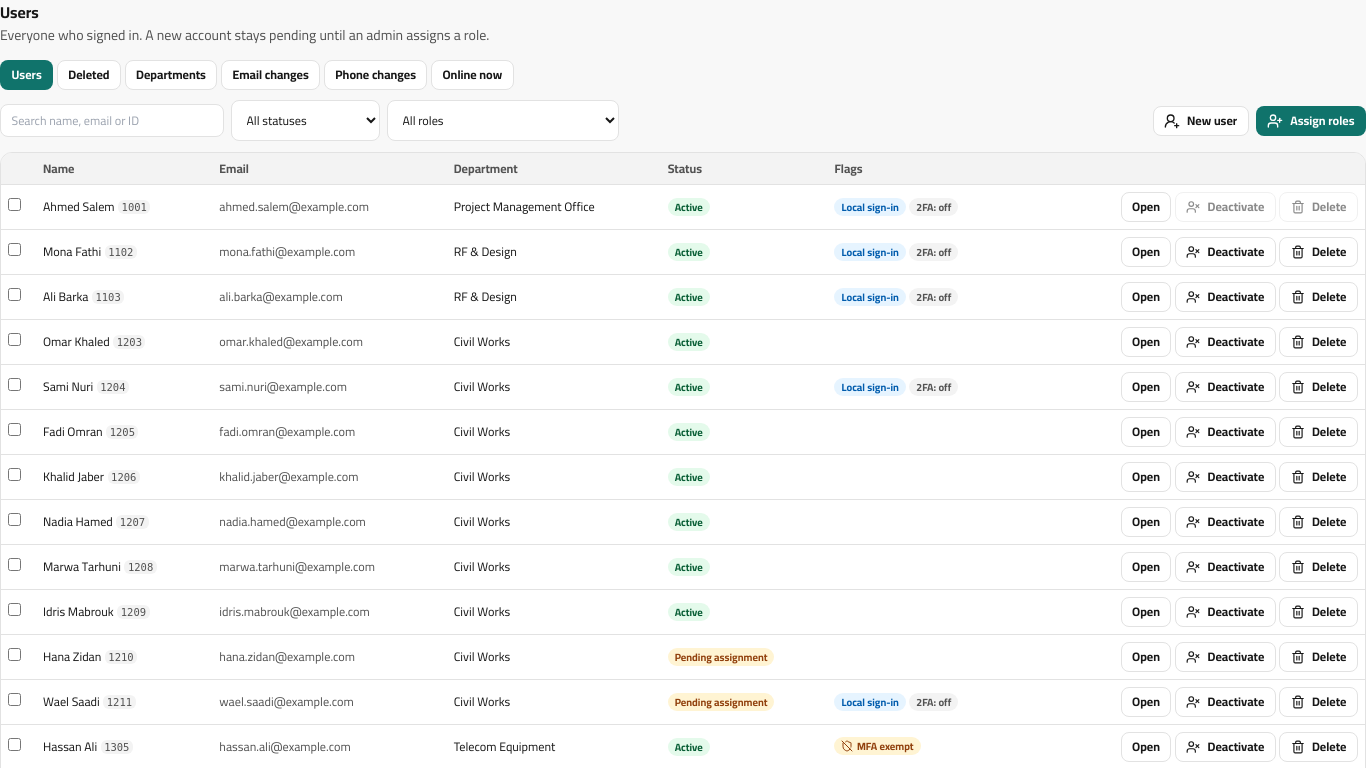
create user › maps 422 weak_password for a typed temporary password
This screenshot has width=1366, height=768.
Step 1. Click the button with test id "users-new" → (1201, 120), box [1153,106,1249,136]
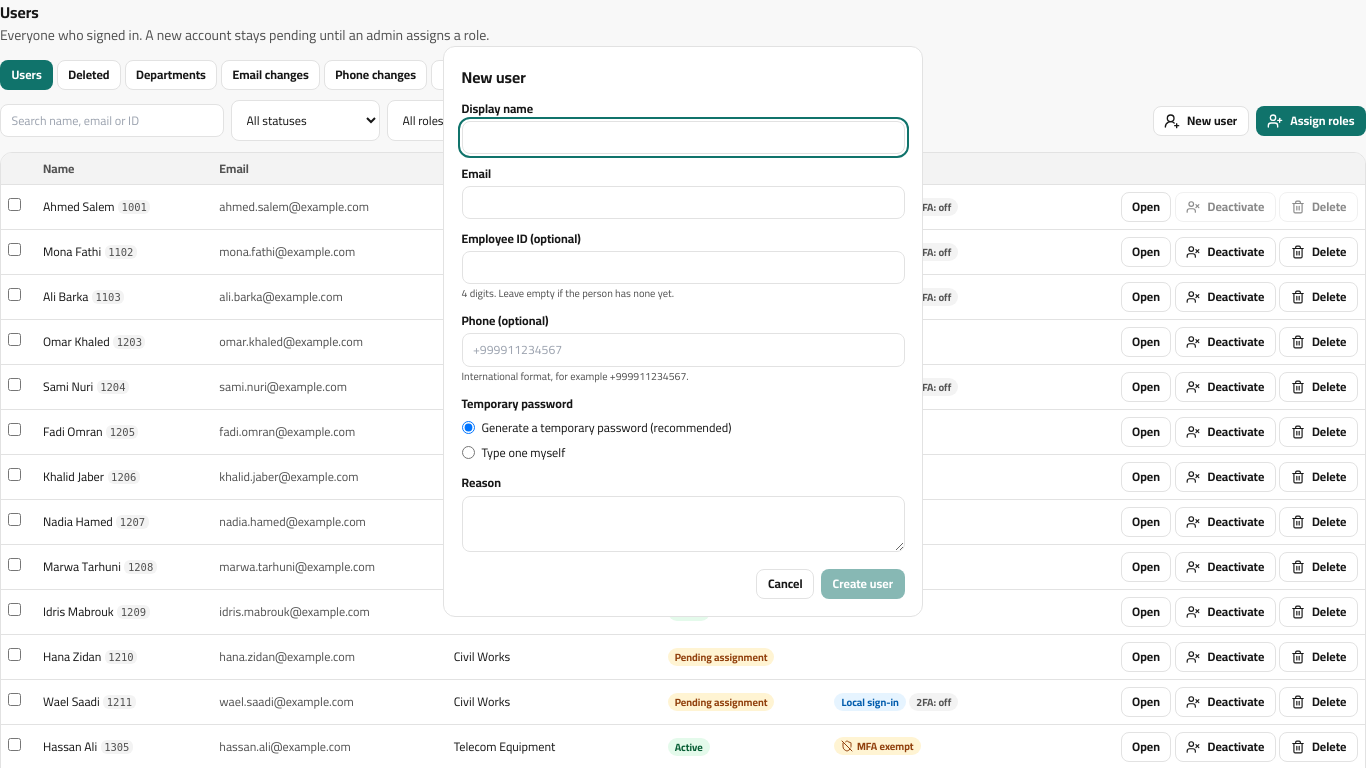
Step 2. Type "Weak Pw" into the field with test id "new-user-name" → (683, 137), box [462,121,904,154]
Step 3. Type "weak.pw@example.com" into the field with test id "new-user-email" → (683, 202), box [462,186,904,219]
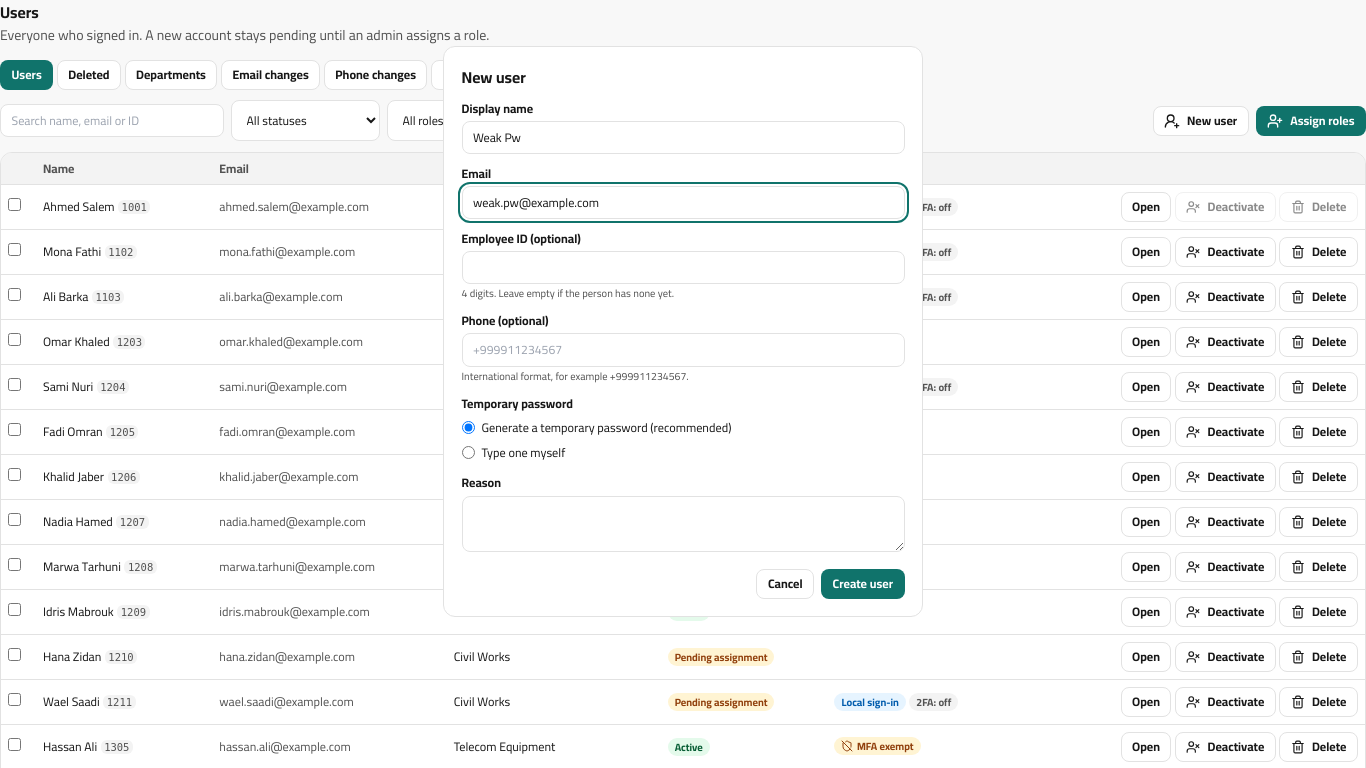
Step 4. Click the radio button with test id "new-user-mode-type" → (468, 452), box [462,446,474,459]
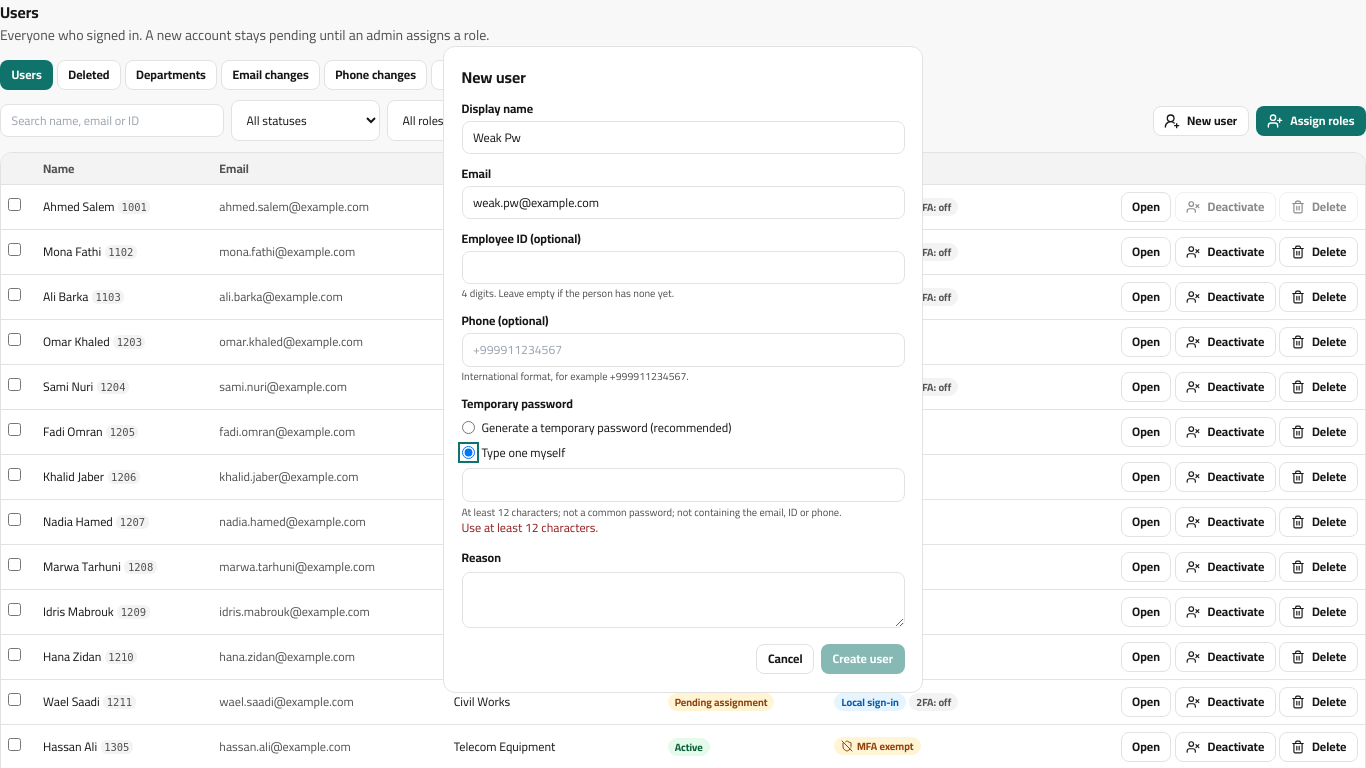
Step 5. Type "weak.pw@example.com" into the field with test id "new-user-password" → (683, 485), box [462,468,904,502]
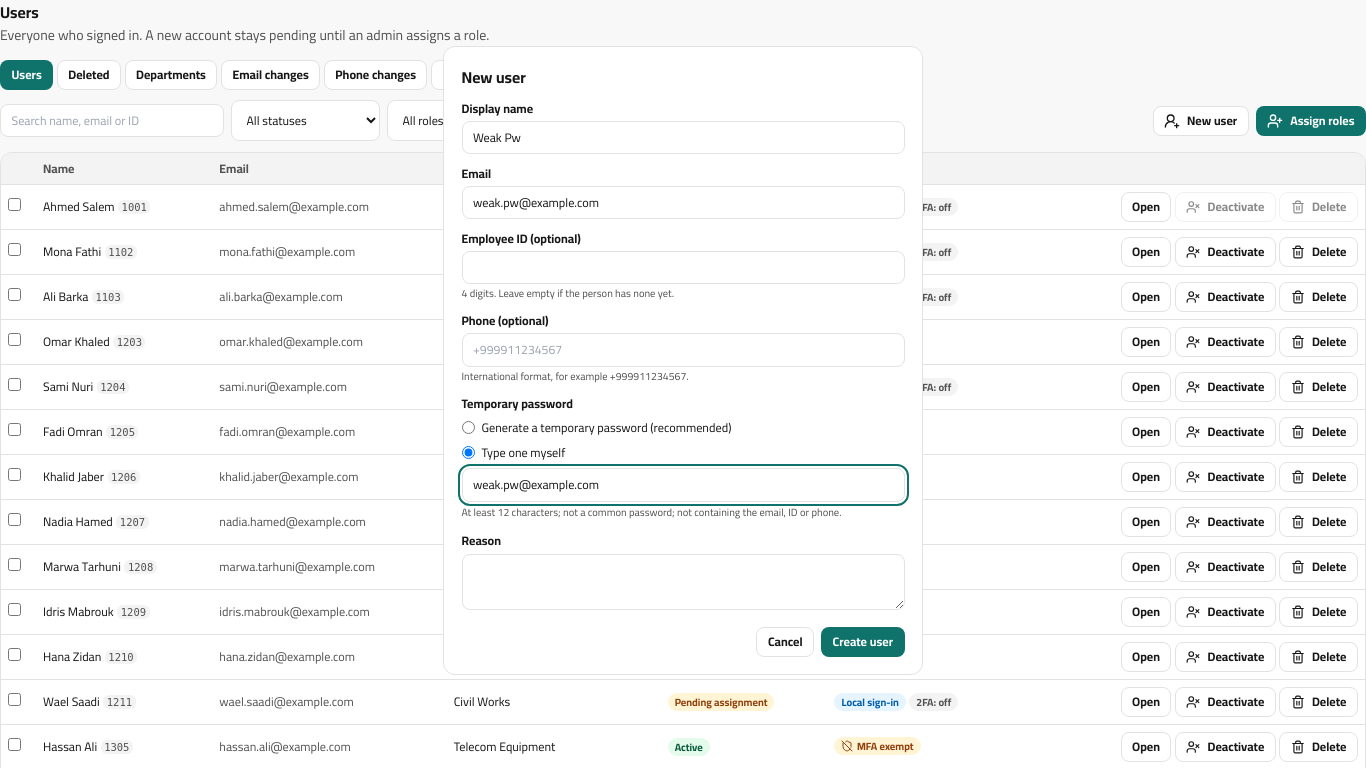
Step 6. Type "Testing weak" into the text box with test id "new-user-dialog-reason" → (683, 582), box [462,554,904,610]
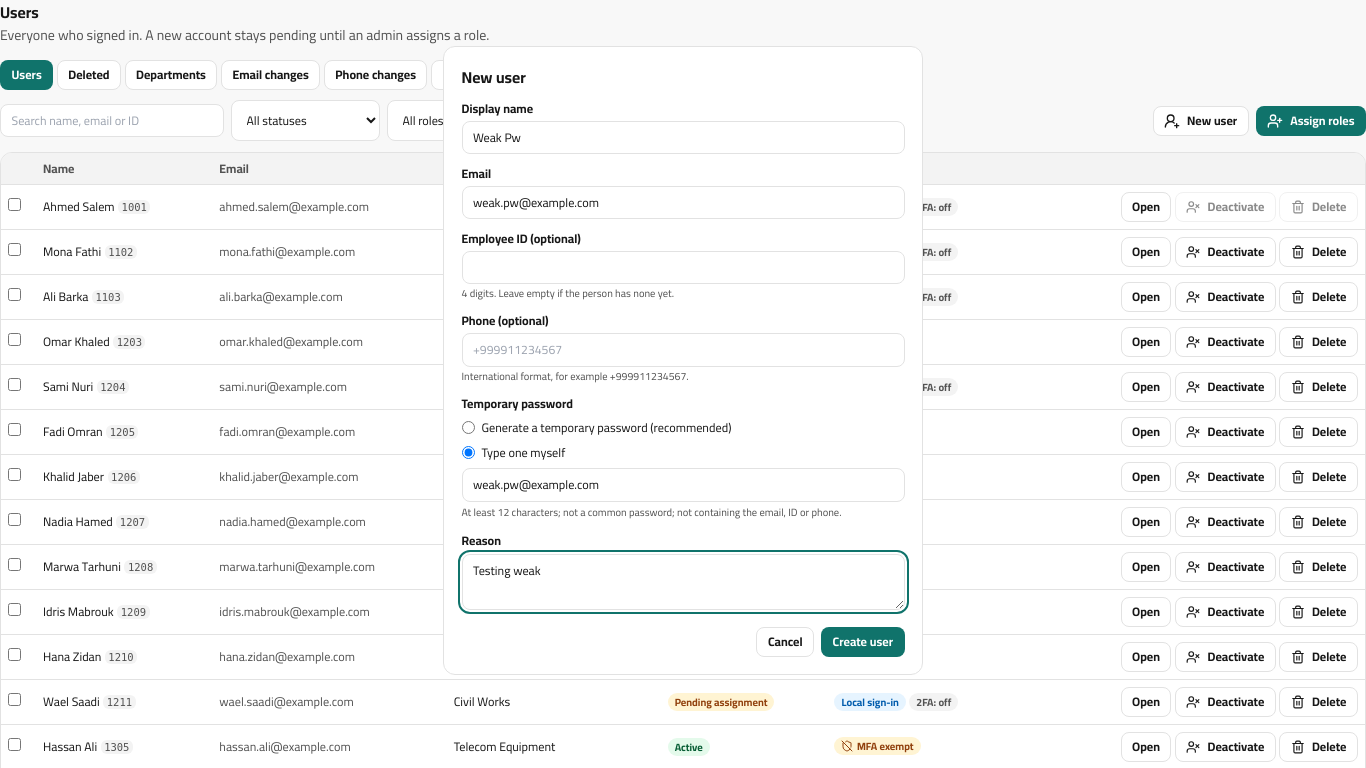
Step 7. Click the button with test id "new-user-dialog-submit" → (863, 642), box [821,627,904,657]
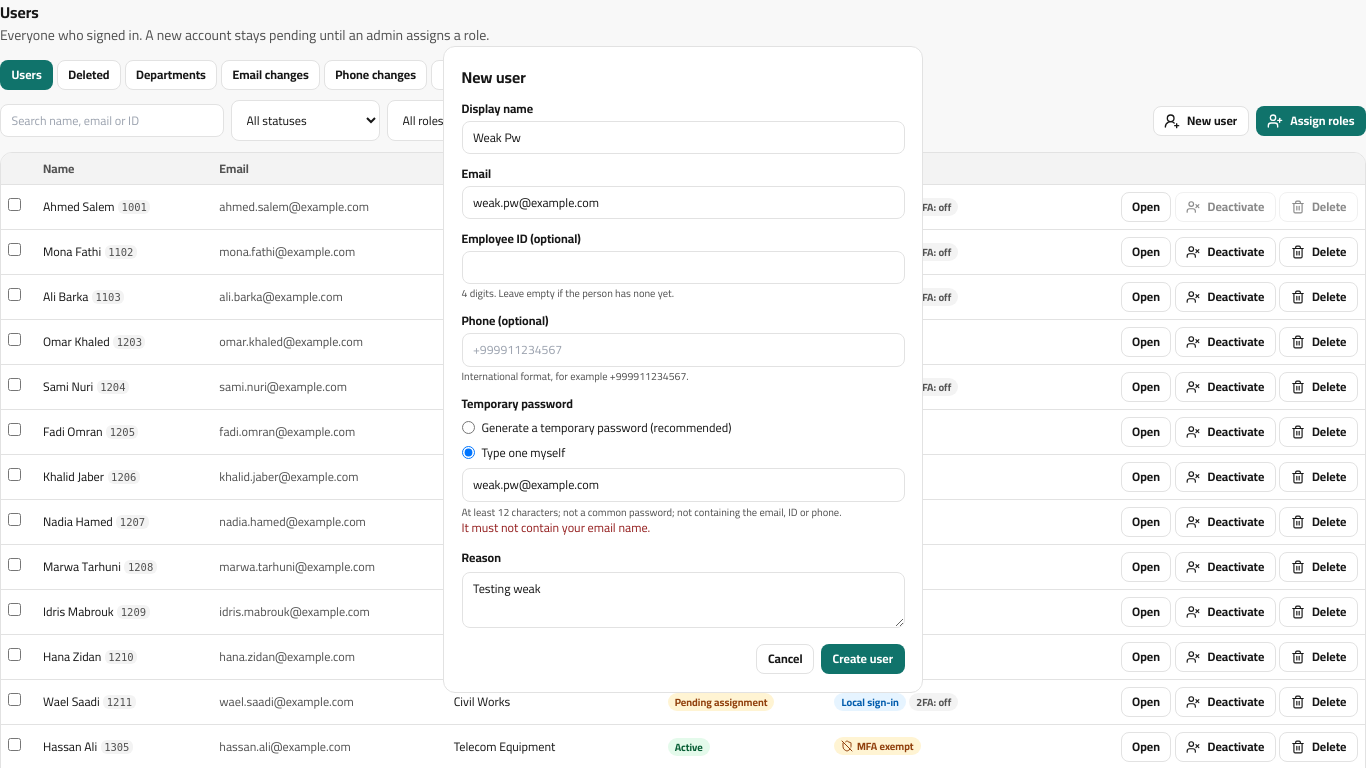
expect the message "It must not contain your email name." is shown: met, box [462,516,650,539]
